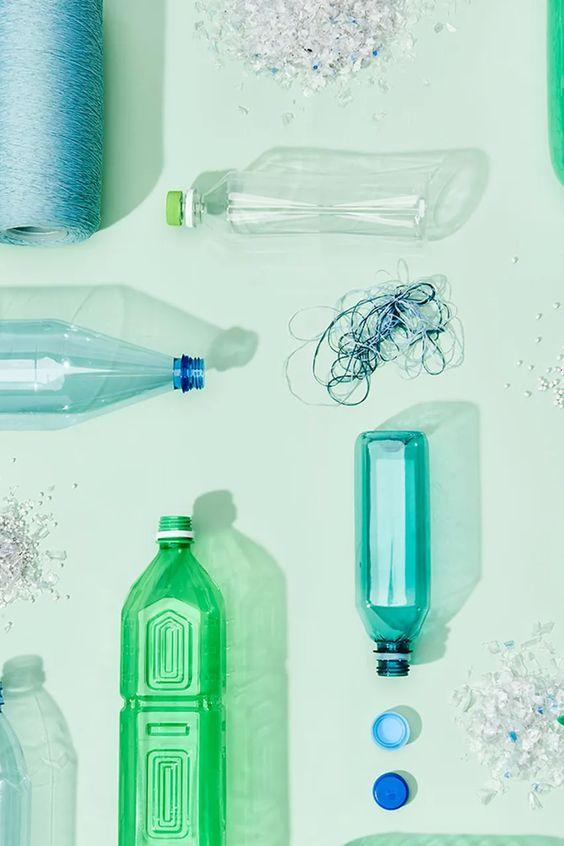HDPE: (369, 710, 413, 751), (372, 771, 409, 812), (165, 190, 196, 227)
PETE: (117, 514, 228, 846), (0, 318, 206, 430), (354, 429, 431, 678), (199, 170, 433, 239)
